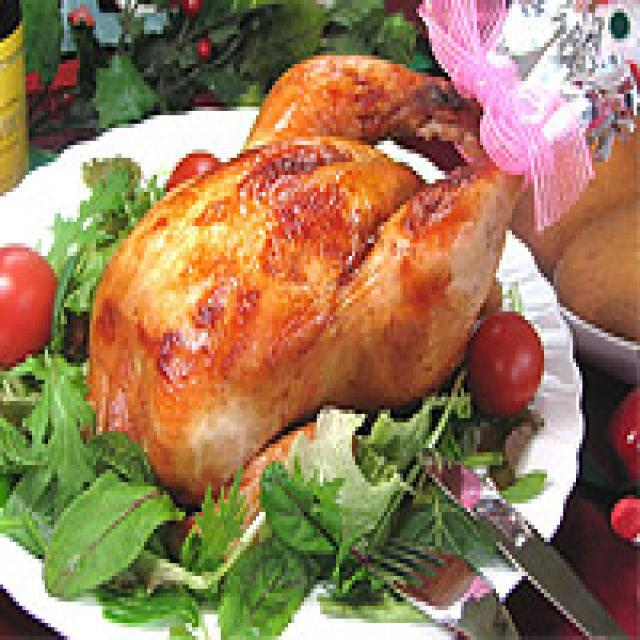Chicken roast: (77, 51, 509, 435)
Tomato: (487, 333, 548, 419), (4, 252, 55, 354)
